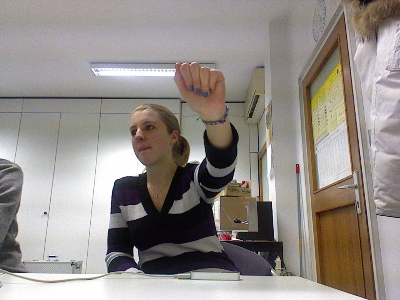石头: (172, 61, 226, 117)
